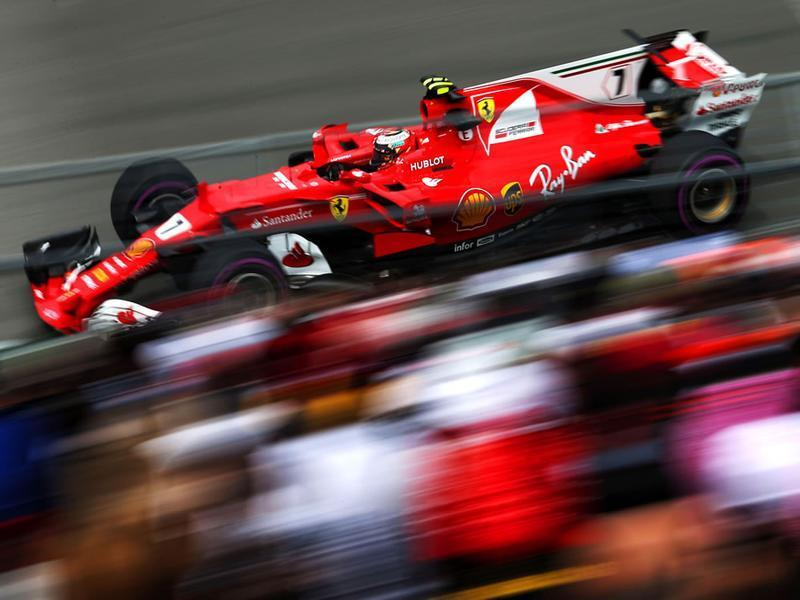f1: (36, 78, 796, 330)
